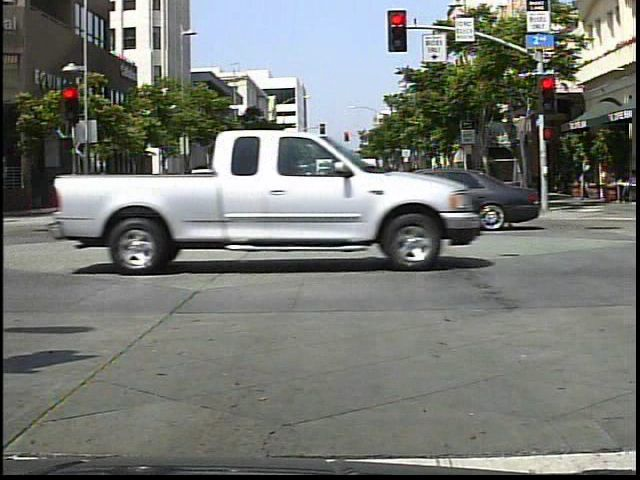person: (379, 163, 412, 235), (427, 160, 458, 224), (169, 166, 201, 225), (579, 157, 599, 205)
